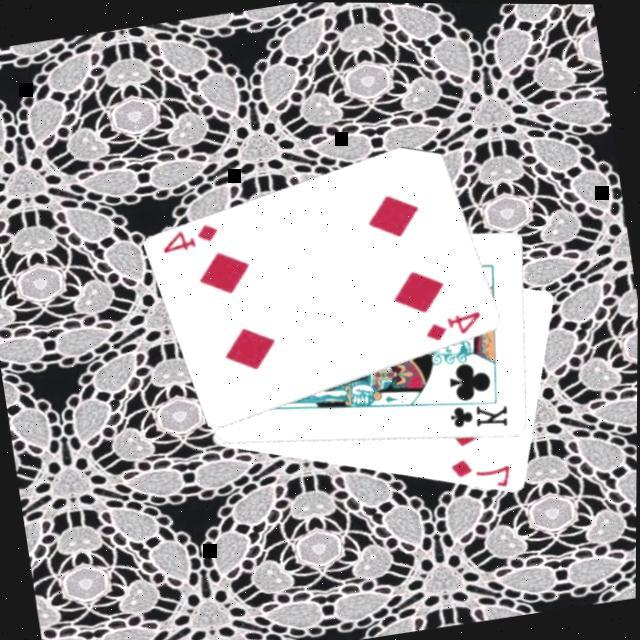4D: (422, 307, 490, 346), (159, 219, 226, 258)
7D: (449, 449, 518, 496)
KC: (442, 390, 516, 438)
